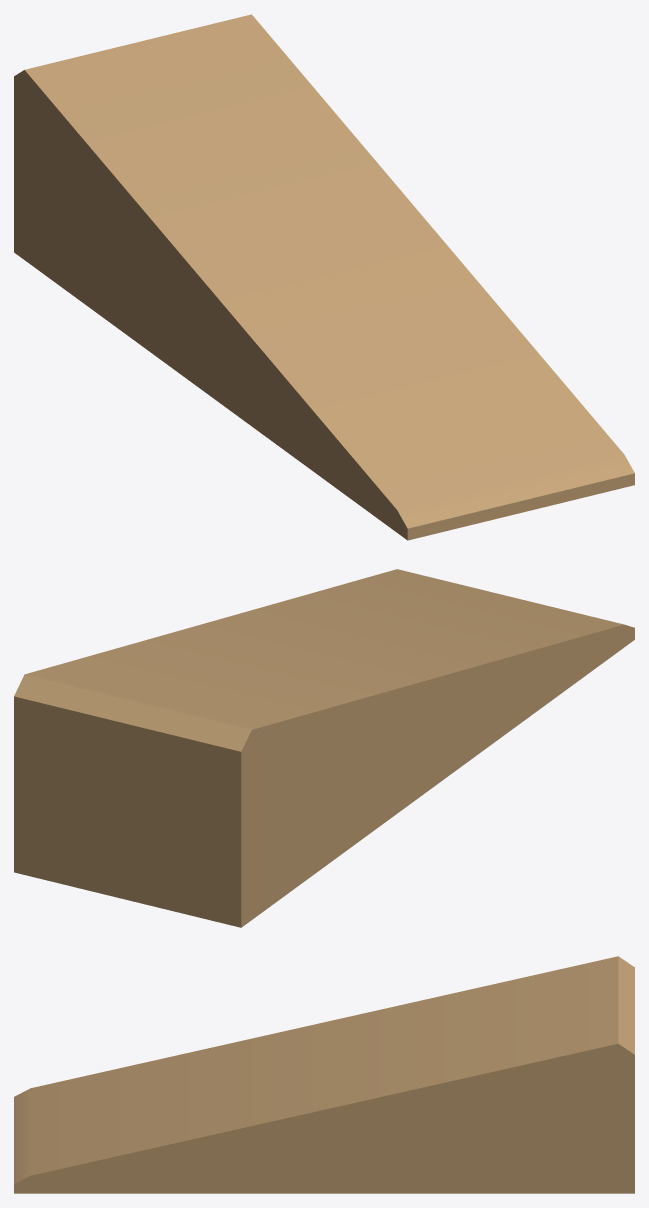
Rendered from Kit_DoorWedge.fbx.
3 renders of one model, top to bottom at view 1: azimuth 30°, elevation 25°; view 2: azimuth 150°, elevation 25°; view 3: azimuth 270°, elevation 25°, orthographic. The views are drawn at different scales.
Visible parts, largest first — view 1: Kit_DoorWedge_LOD0; view 2: Kit_DoorWedge_LOD0; view 3: Kit_DoorWedge_LOD0.
Part boxes in pixels (box(x1,y1,x2,y2)): Kit_DoorWedge_LOD0: box(14, 14, 634, 540); Kit_DoorWedge_LOD0: box(14, 569, 634, 927); Kit_DoorWedge_LOD0: box(14, 956, 634, 1193).
Size of what is drawn, in the model's own units: 0.05 by 0.04 by 0.15.
